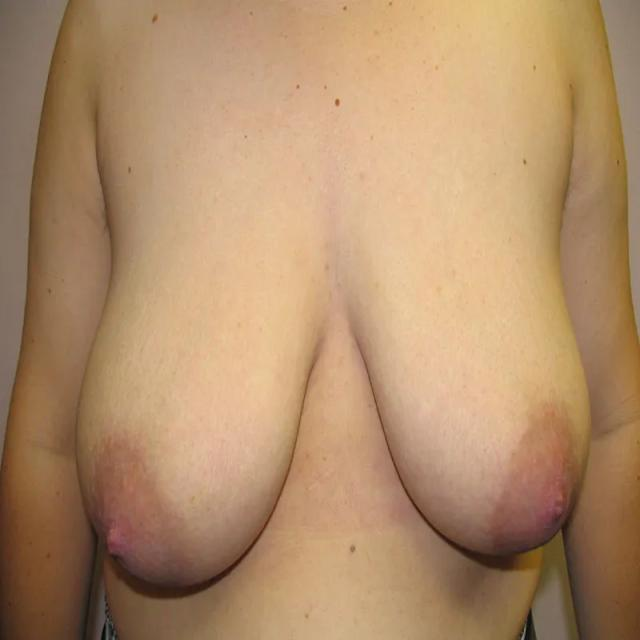Seno ileso: (68, 176, 334, 619), (338, 174, 600, 590)
